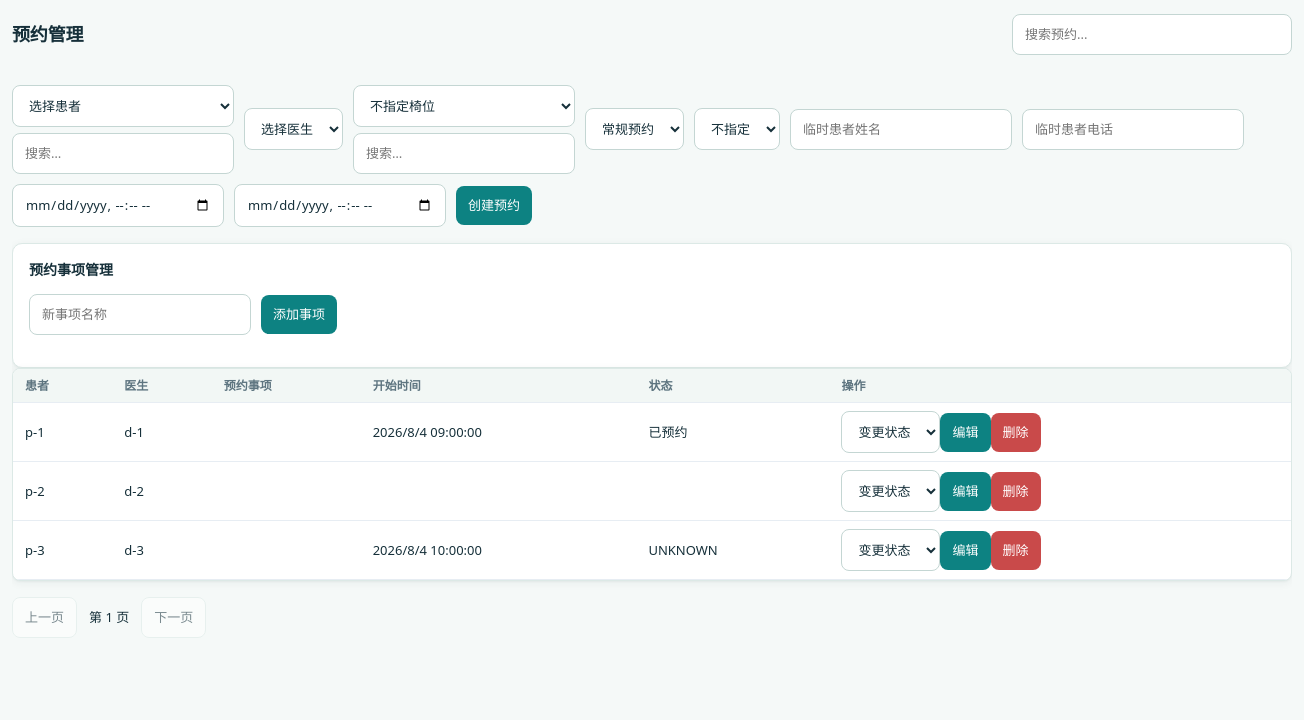
Test: AppointmentsPage › reports create and transition failures with fallback messages
Check: the heading "预约管理" is shown, box [12,21,83,48]
Select "患者甲" in the dropdown named "患者" at (123, 106), box [12,85,234,127]
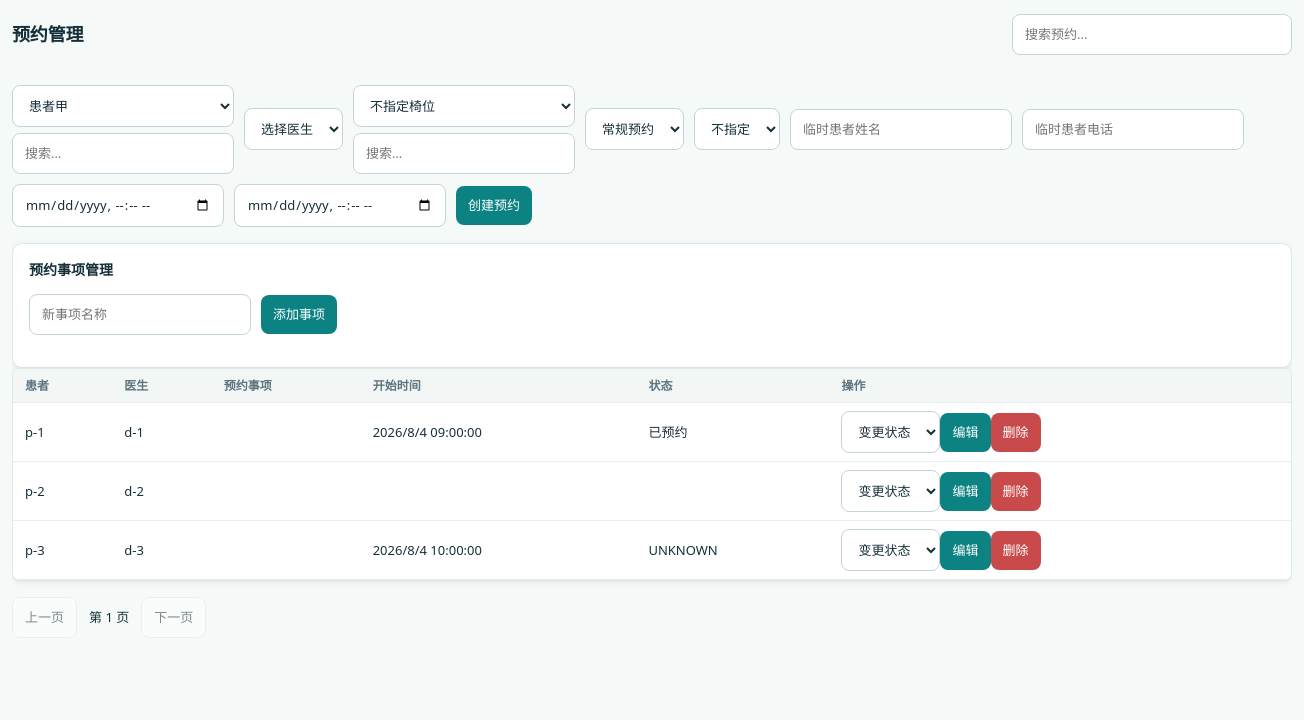
Select "张医生" in the dropdown named "医生" at (294, 129), box [244,108,343,150]
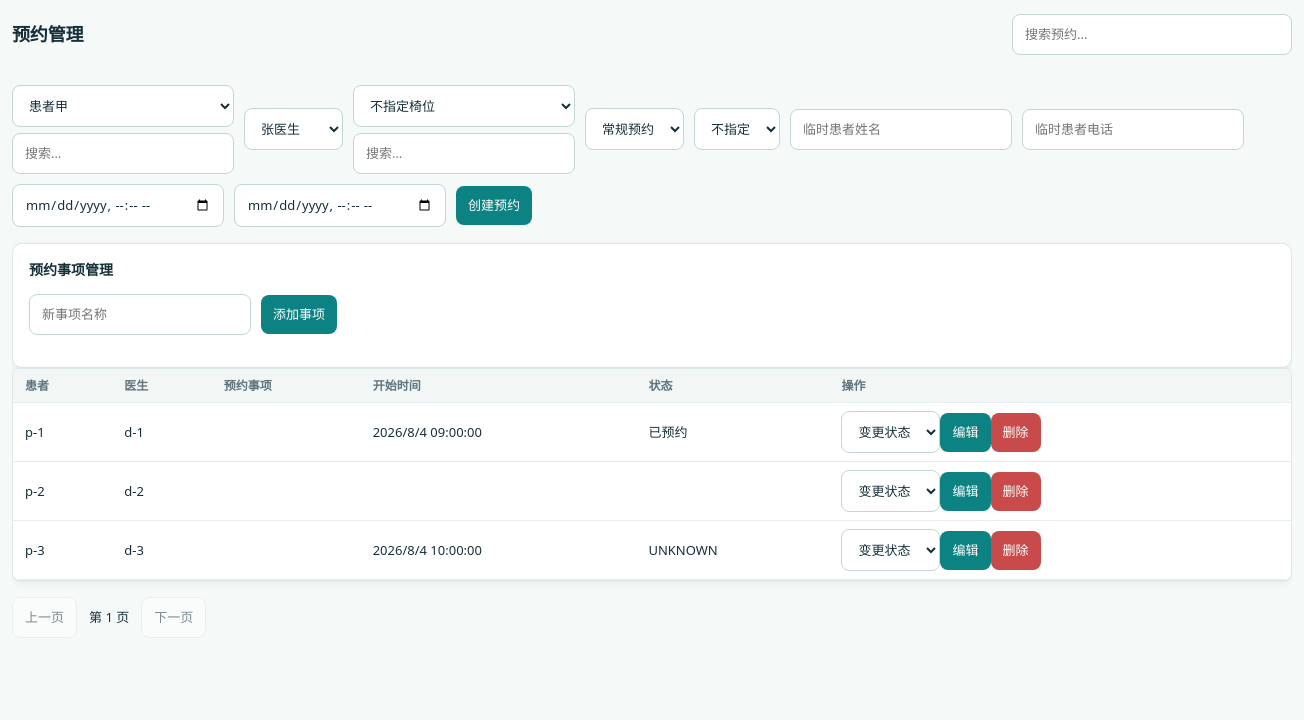
Type "2026-08-05T09:00" into the field named "开始时间" at (118, 205), box [12,184,224,226]
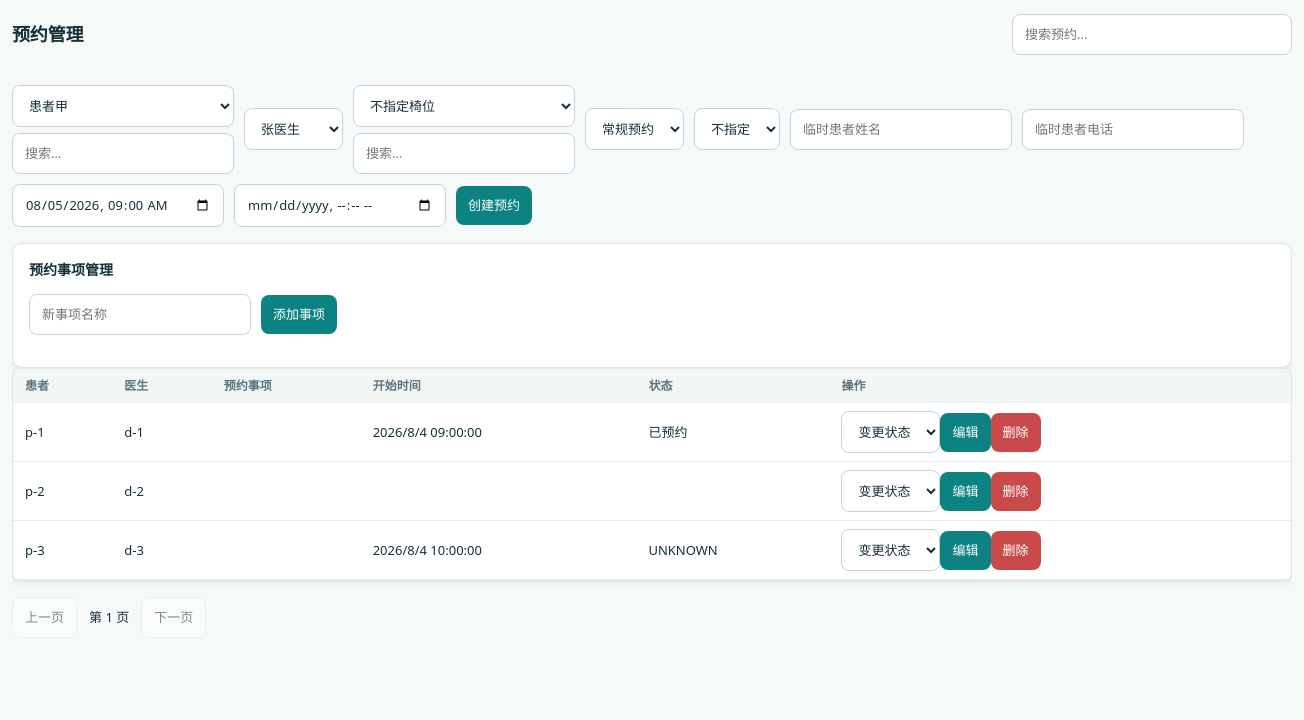
Type "2026-08-05T10:00" into the field named "结束时间" at (340, 205), box [234,184,446,226]
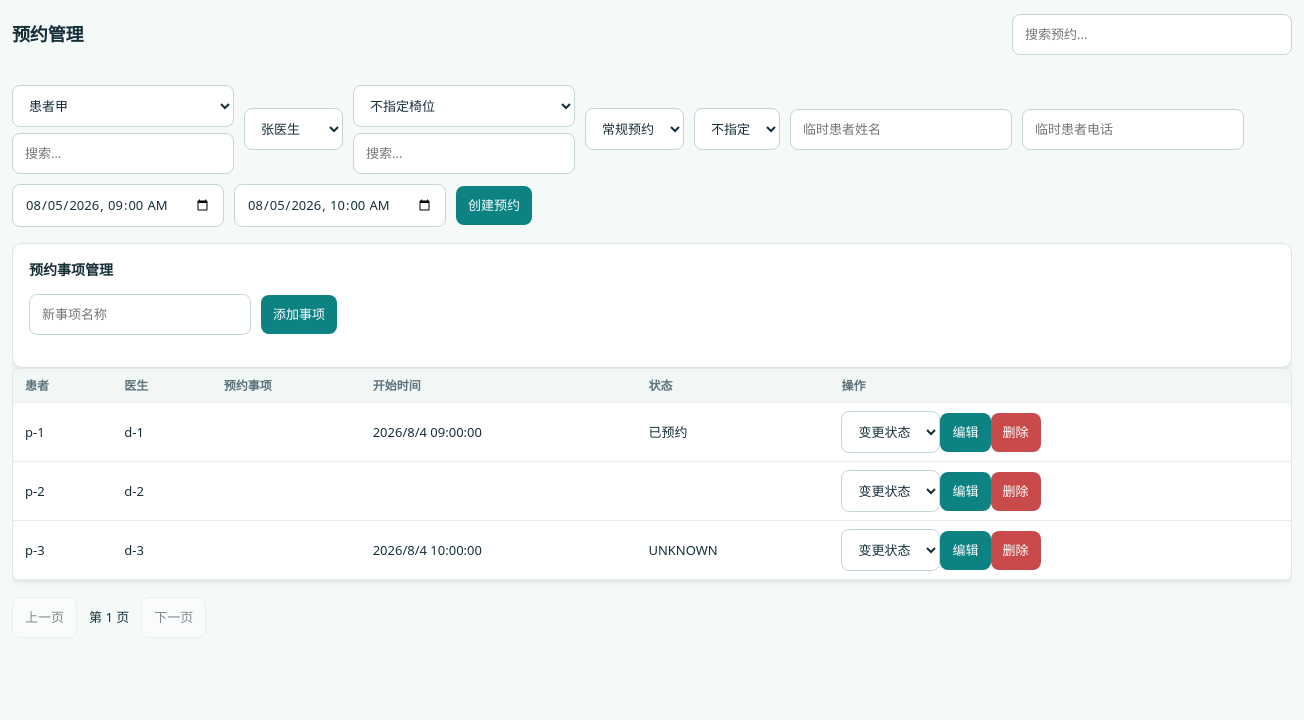
Click the button "创建预约" at (494, 205), box [456,186,532,224]
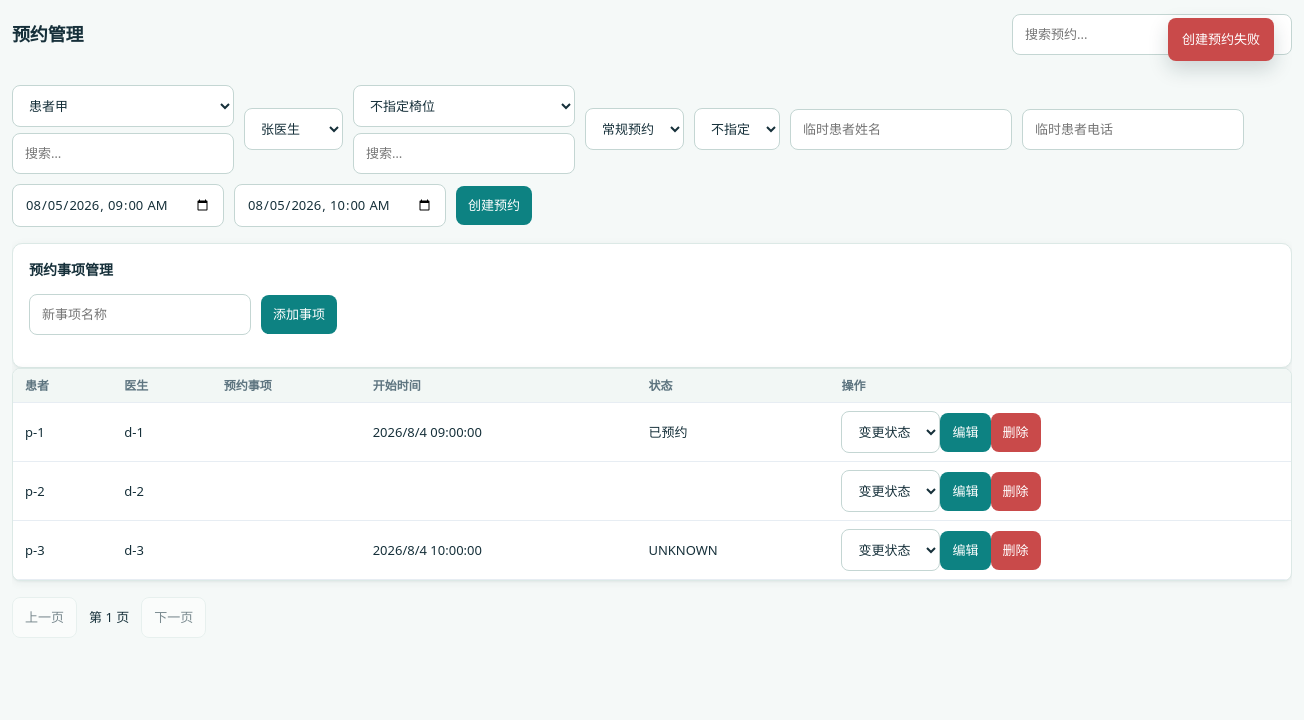
Check: the text "创建预约失败" is shown, box [1168,18,1274,61]
Select "已到诊" in the dropdown named "变更预约状态" in the row of "p-1" at (891, 432), box [842,411,940,453]
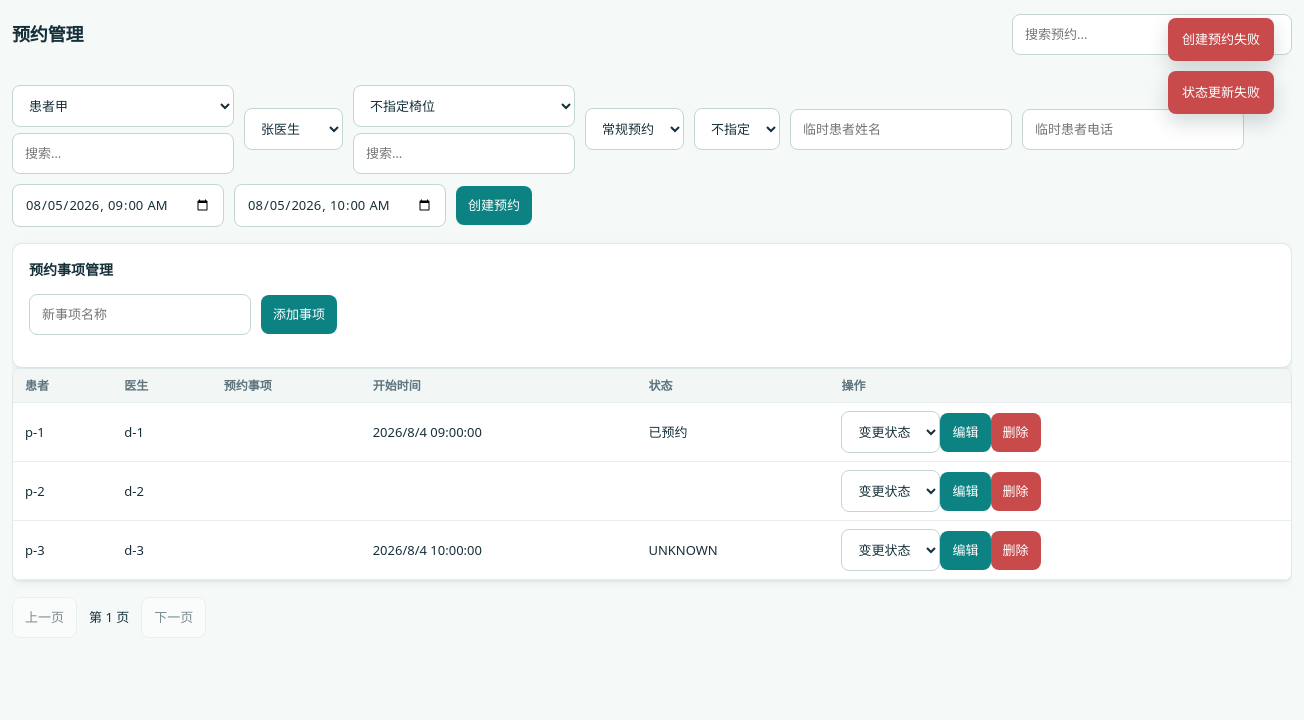
Check: the text "状态更新失败" is shown, box [1168,71,1274,114]
